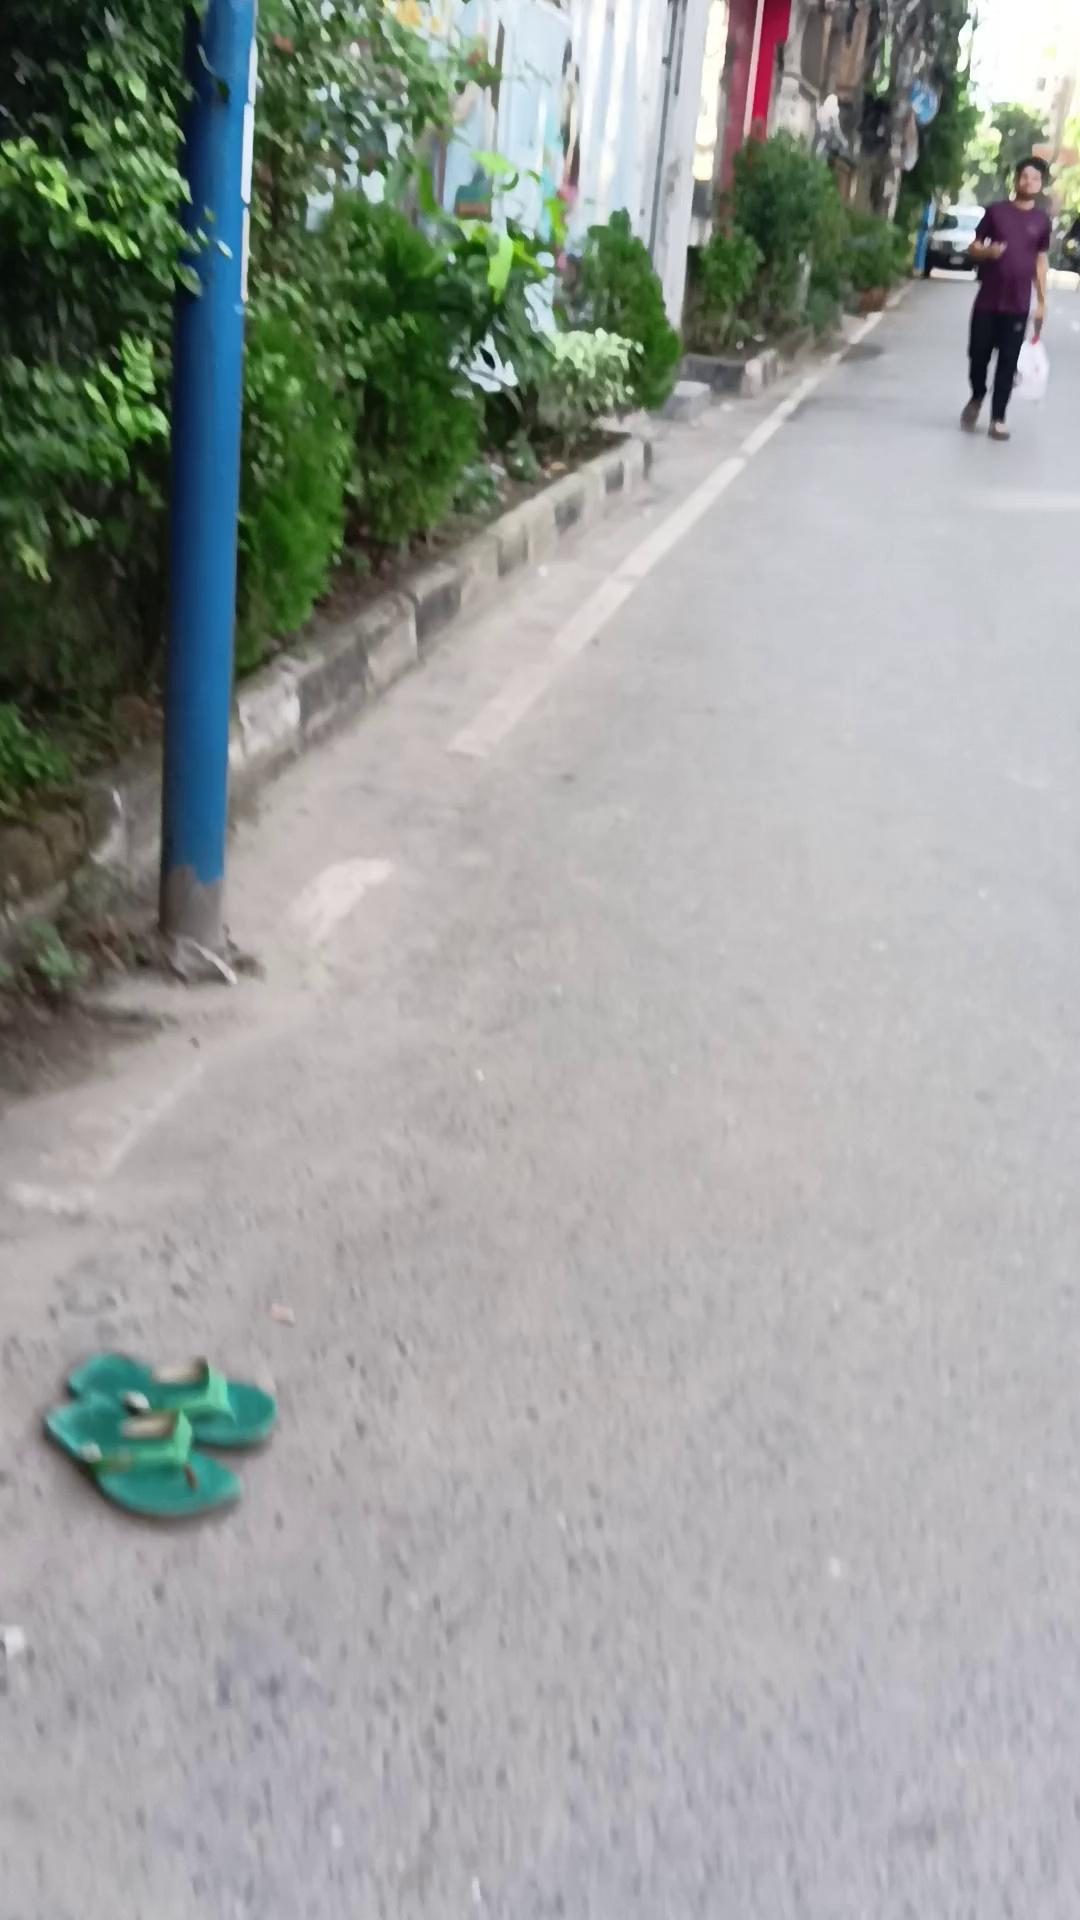Bollard: (916, 203, 989, 280), (1047, 210, 1079, 272)
Broken-road: (223, 423, 653, 814)
Crosswalk: (42, 1346, 276, 1519)
Curb: (957, 156, 1056, 440)
Dog: (156, 1, 258, 978)
Fallen-tree: (679, 223, 778, 397), (841, 204, 909, 314)
